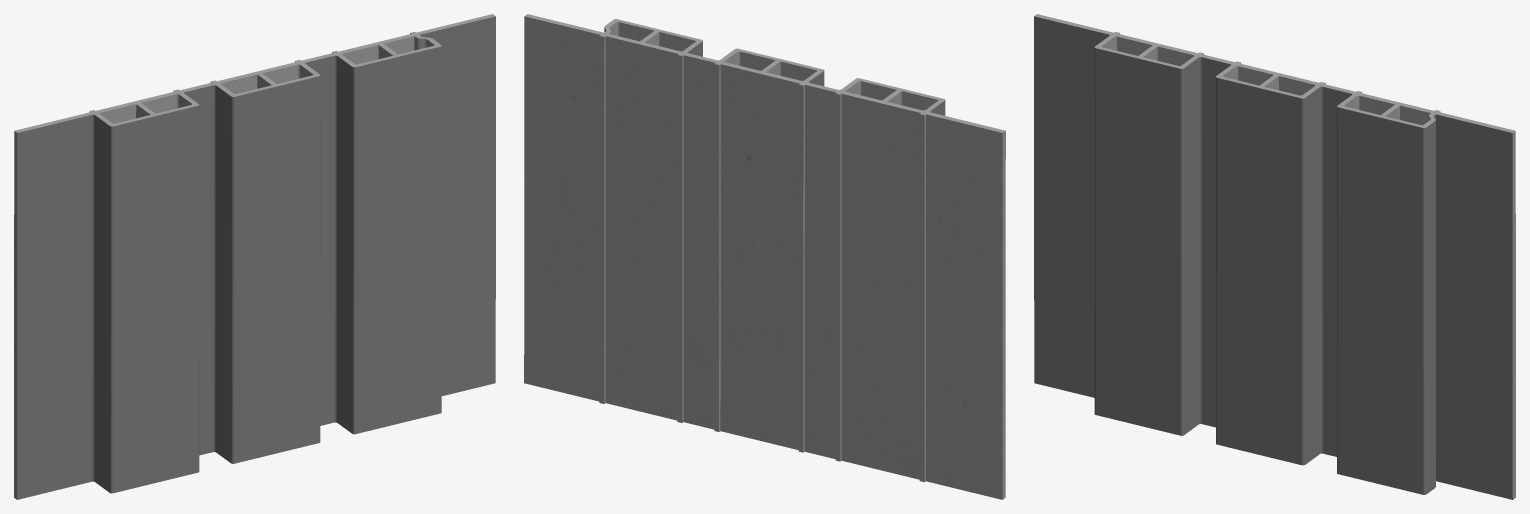
Rendered from uclurenkligri.glb.
The picture shows the model from 3 angles, left to right: view 1: azimuth 30°, elevation 25°; view 2: azimuth 150°, elevation 25°; view 3: azimuth 330°, elevation 25°; orthographic projection.
Visible parts, largest first — view 1: Plane.007; view 2: Plane.007; view 3: Plane.007.
Part boxes in pixels (x1=…): Plane.007: x1=14, y1=14, x2=495, y2=499; Plane.007: x1=524, y1=14, x2=1005, y2=499; Plane.007: x1=1034, y1=14, x2=1515, y2=499.
Bounding box in the file's own units: 10.06 × 7.37 × 0.7962.
Materials: 2 (1 with a texture image).
